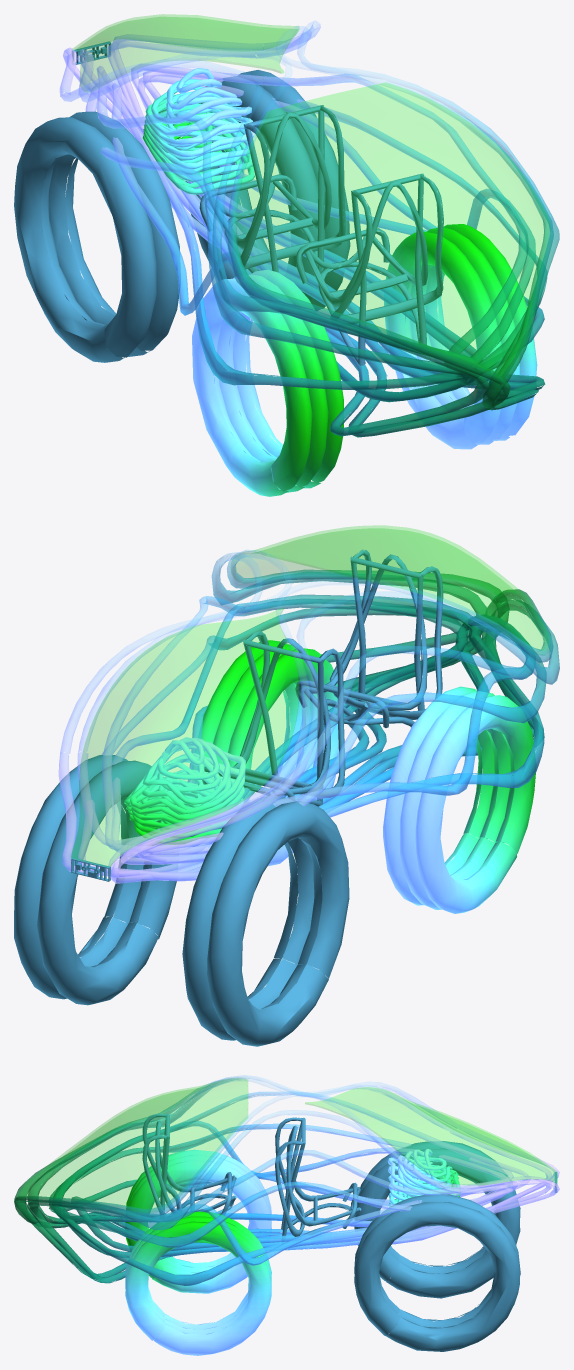
File: XXX-MarsDEADLeaf-NEON2-v20.glb
3 views of the same model, one above another, from view 1: azimuth 30°, elevation 25°; view 2: azimuth 150°, elevation 25°; view 3: azimuth 270°, elevation 25° (orthographic). The views are drawn at different scales.
Visible parts, largest first — view 1: Merged Objects, XXX-MarsDEADLeaf-NEON, Merged Objects 10, Merged Objects 11, MOTORS; view 2: Merged Objects 10, XXX-MarsDEADLeaf-NEON, Merged Objects, Merged Objects 11, MOTORS; view 3: XXX-MarsDEADLeaf-NEON, Merged Objects 10, Merged Objects, Merged Objects 11, MOTORS.
Part boxes in pixels (x1,y1,x2,y2): Merged Objects: (72,14,548,376); XXX-MarsDEADLeaf-NEON: (59,21,559,437); Merged Objects 10: (14,41,443,365); Merged Objects 11: (192,224,537,496); MOTORS: (142,68,254,194); Merged Objects 10: (14,549,443,1046); XXX-MarsDEADLeaf-NEON: (58,550,559,883); Merged Objects: (71,525,548,866); Merged Objects 11: (196,640,535,913); MOTORS: (124,737,245,844); XXX-MarsDEADLeaf-NEON: (14,1075,559,1285); Merged Objects 10: (142,1113,557,1351); Merged Objects: (19,1078,557,1210); Merged Objects 11: (125,1149,271,1355); MOTORS: (387,1149,460,1206).
Bounding box in the file's own units: 2.39 × 2.42 × 5.23.
5 materials, 3 textured.
